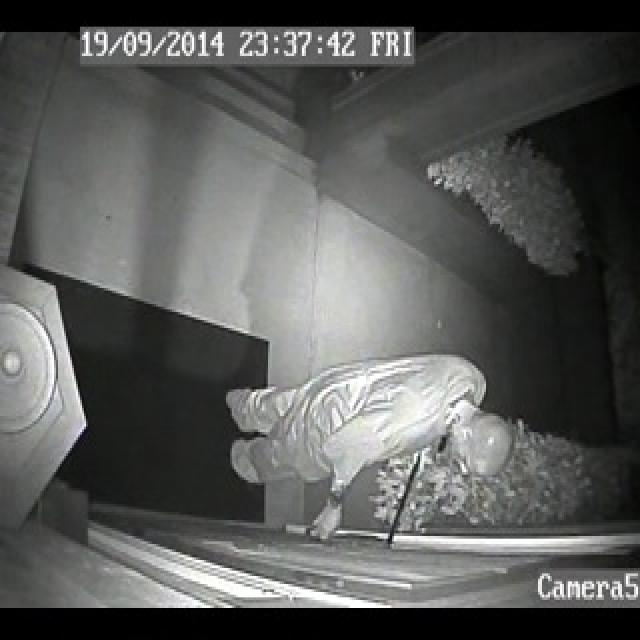burglary: (242, 357, 491, 567)
